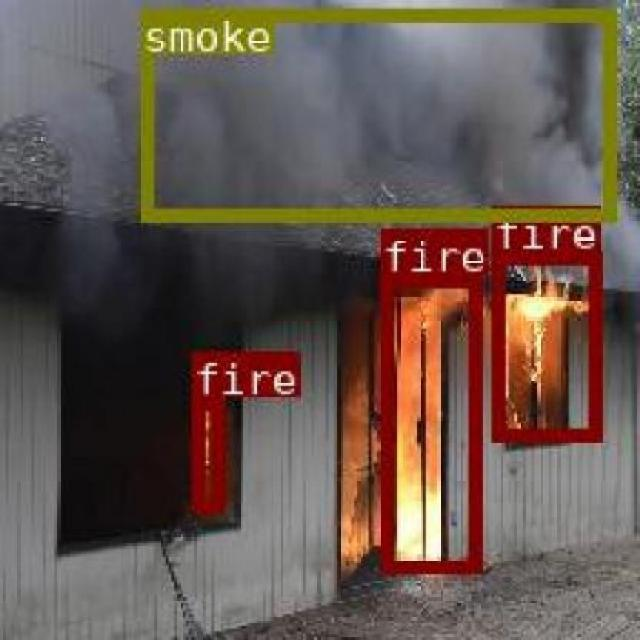CIV_Plane: (378, 273, 478, 570), (490, 250, 598, 439), (189, 394, 222, 512)
Fire: (378, 273, 478, 570), (490, 250, 598, 439), (189, 394, 222, 512)
Smoke: (139, 6, 613, 220)
